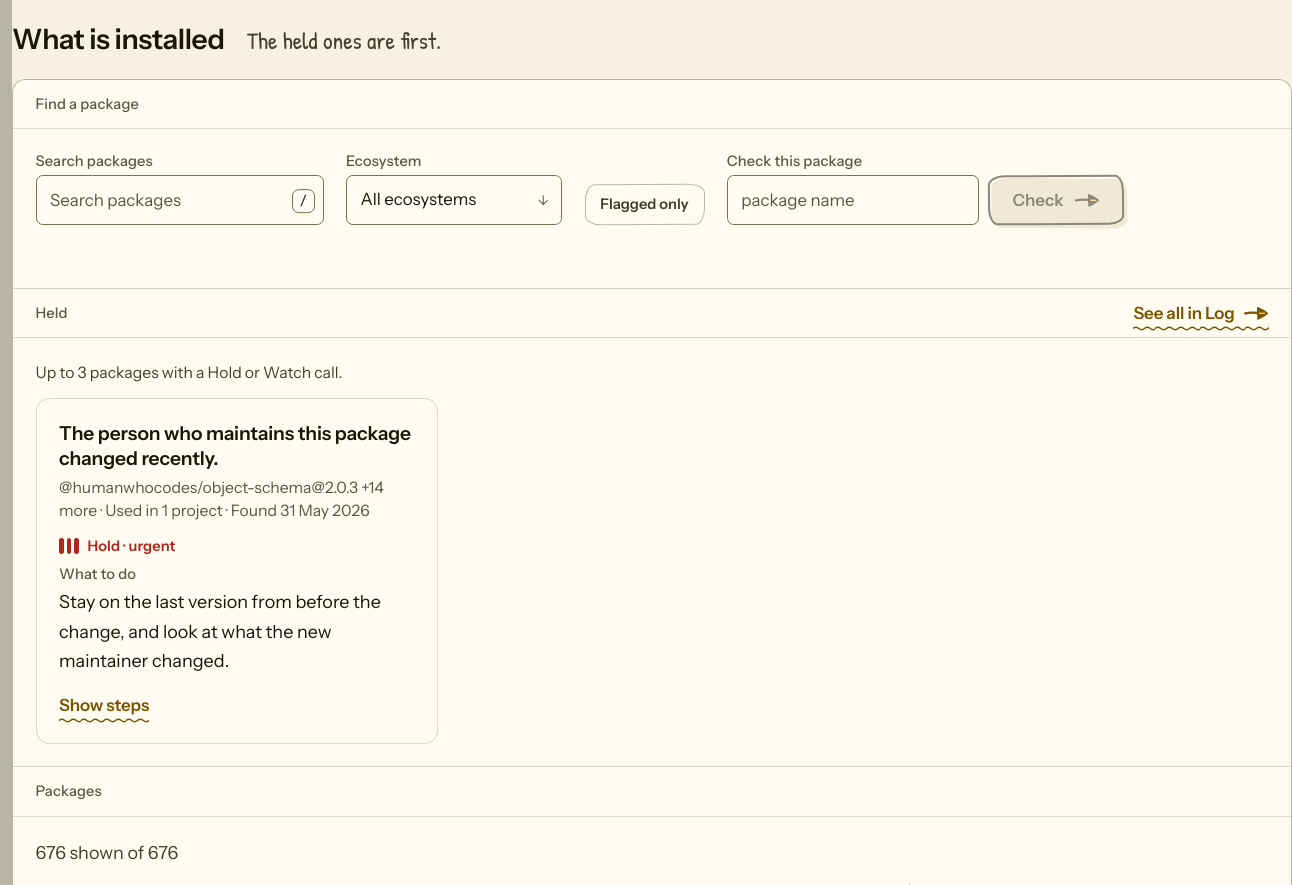
Test: Installed (live fixtures: 1,000 raw rows, 676 real ones) › filters and says so when nothing matches
Check: the text "676 shown of 676" is shown, box [36,842,178,864]
Step 1. Type "zzzz-not-a-package" into the field labelled "Search packages" → [180, 200], box [36,175,324,225]
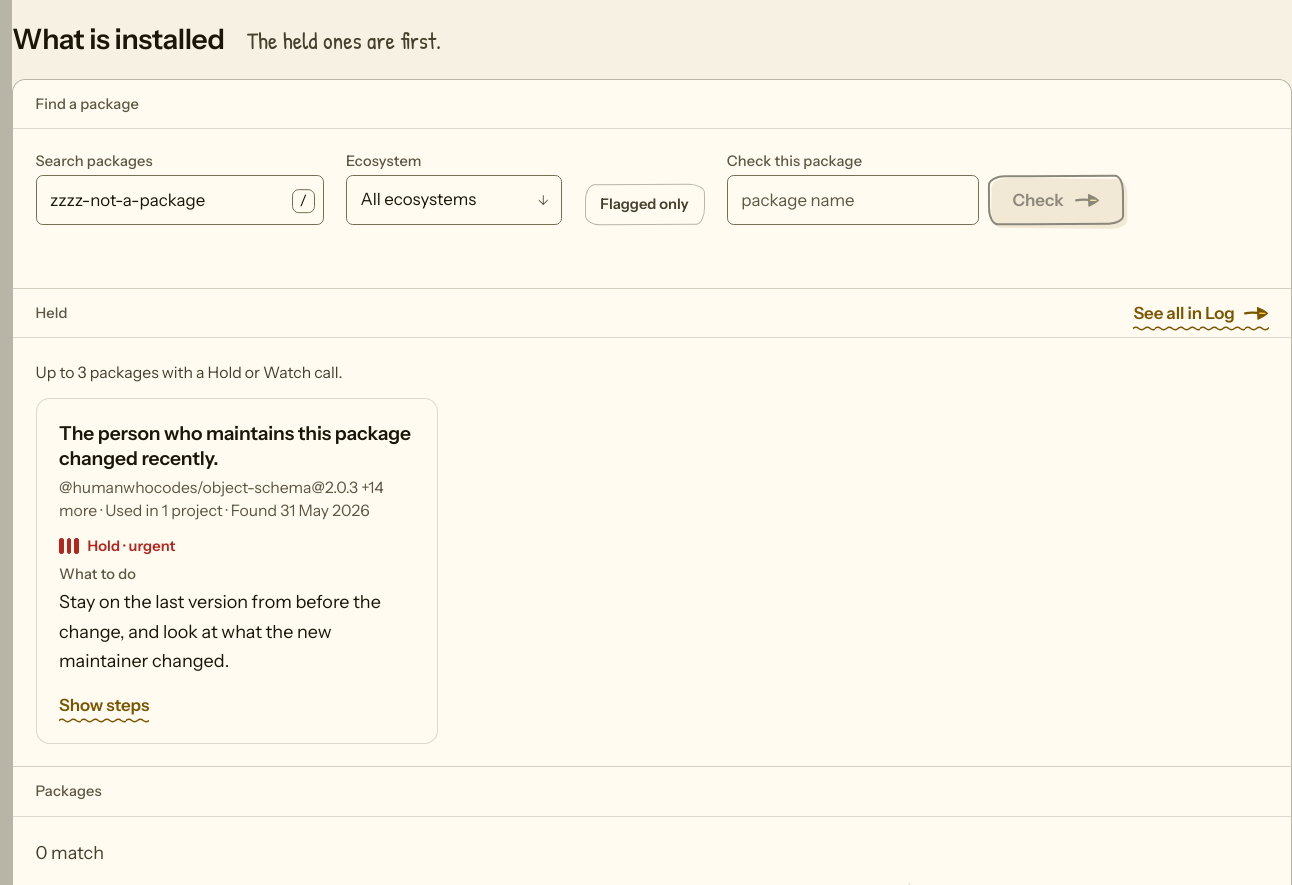
Check: the text "0 match" is shown, box [36,842,104,864]
